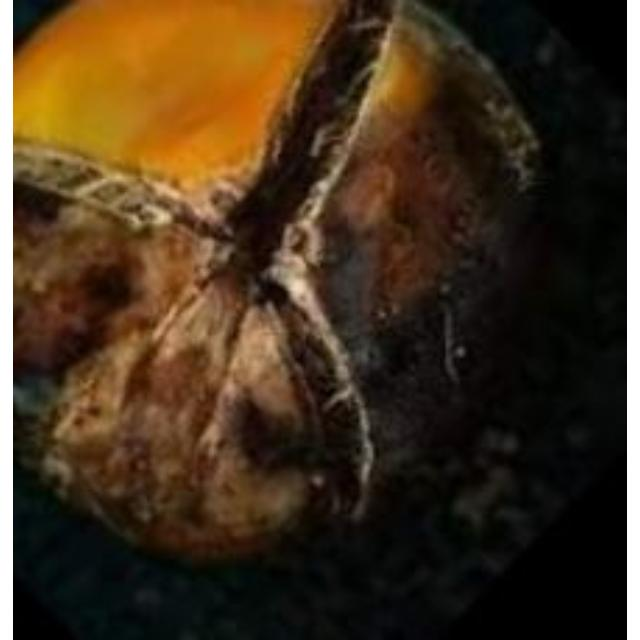damaged: (14, 1, 533, 566)
